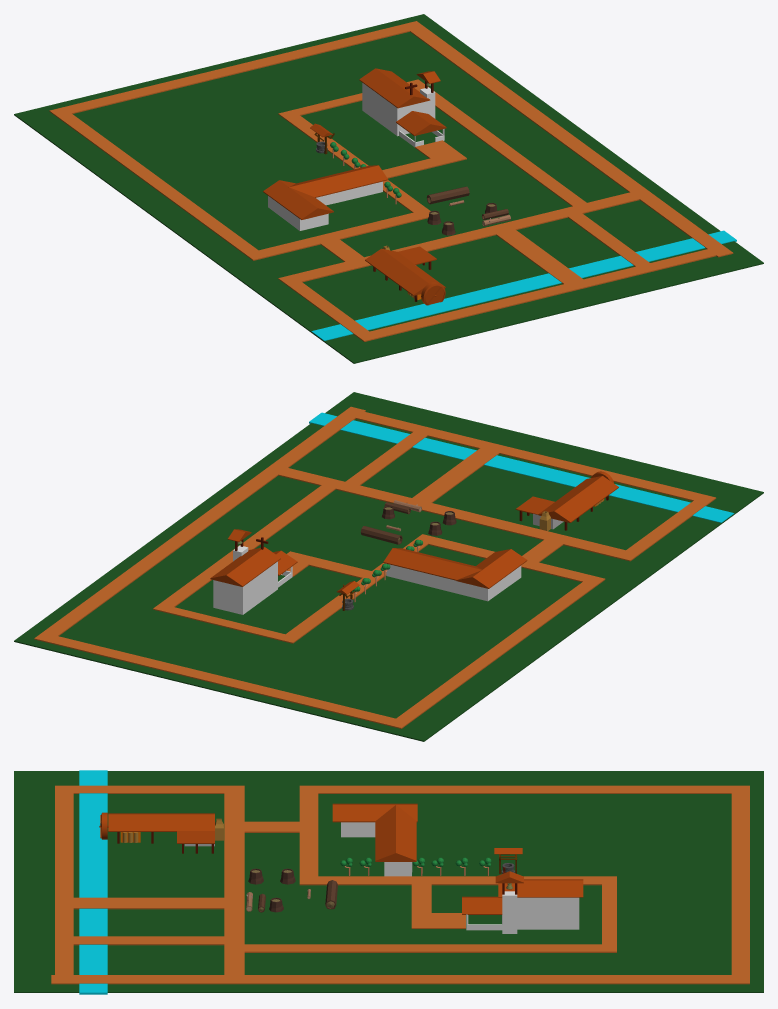
Rendered from Moinho e igreja cenario quase completo.fbx.
3 views of the same model, one above another, from view 1: azimuth 30°, elevation 25°; view 2: azimuth 150°, elevation 25°; view 3: azimuth 270°, elevation 25° (orthographic). The views are drawn at different scales.
Parts seen in each view (by area): view 1: Plane.004, Plane.003, Plane.005, Cube.013, Cube.026, Cube.027, Plane.002, Cube.014, Cube.025, Cube.016; view 2: Plane.004, Plane.003, Plane.005, Cube.013, Plane.002, Cube.027, Cube.026, Cube.014, Cube.025; view 3: Plane.004, Plane.003, Plane.005, Cube.013, Cube.026, Cube.027, Cube.014, Cube.025, Plane.002, Cube.016, Plane.
Part boxes in pixels (box(x1,y1,x2,y2)): Plane.004: box(14, 14, 763, 363); Plane.003: box(49, 21, 733, 341); Plane.005: box(311, 230, 736, 340); Cube.013: box(362, 83, 435, 136); Cube.026: box(289, 165, 388, 197); Cube.027: box(365, 248, 445, 295); Plane.002: box(268, 181, 382, 230); Cube.014: box(359, 68, 430, 108); Cube.025: box(263, 180, 333, 219); Cube.016: box(396, 111, 446, 135); Plane.004: box(14, 392, 763, 741); Plane.003: box(34, 406, 716, 728); Plane.005: box(309, 412, 734, 522); Cube.013: box(213, 545, 277, 614); Plane.002: box(386, 563, 521, 601); Cube.027: box(538, 476, 618, 522); Cube.026: box(383, 548, 481, 580); Cube.014: box(210, 547, 280, 586); Cube.025: box(456, 549, 527, 588); Plane.004: box(14, 771, 763, 992); Plane.003: box(51, 785, 749, 984); Plane.005: box(79, 770, 107, 994); Cube.013: box(502, 891, 579, 933); Cube.026: box(375, 805, 416, 861); Cube.027: box(108, 813, 214, 831); Cube.014: box(498, 879, 583, 897); Cube.025: box(332, 803, 417, 822); Plane.002: box(341, 822, 412, 876); Cube.016: box(462, 896, 502, 914); Plane: box(177, 831, 214, 843).
Size of the model in its own units: 2798 by 360 by 3992.
